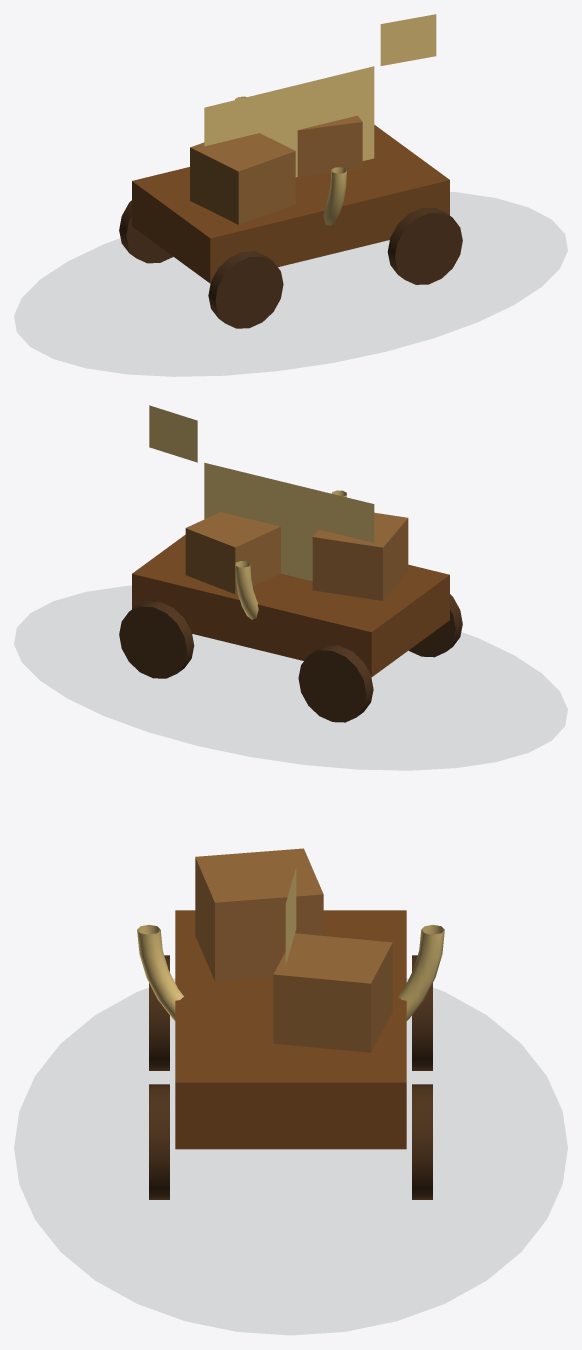
File: nomad_caravan.glb
The picture shows the model from 3 angles, top to bottom: view 1: azimuth 30°, elevation 25°; view 2: azimuth 150°, elevation 25°; view 3: azimuth 270°, elevation 25°; orthographic projection. The views are drawn at different scales.
Visible parts, largest first — view 1: soft_ground_shadow, caravan_cart_bed, caravan_canvas_panel, caravan_goods_crate_0, caravan_wheel_-0.58_0.5, caravan_wheel_0.58_0.5, caravan_goods_crate_1, caravan_signal_flag, caravan_wheel_-0.58_-0.5, caravan_canvas_arch; view 2: soft_ground_shadow, caravan_cart_bed, caravan_canvas_panel, caravan_goods_crate_0, caravan_goods_crate_1, caravan_wheel_-0.58_-0.5, caravan_wheel_0.58_-0.5, caravan_signal_flag, caravan_wheel_-0.58_0.5, caravan_canvas_arch; view 3: soft_ground_shadow, caravan_cart_bed, caravan_goods_crate_0, caravan_goods_crate_1, caravan_canvas_arch, caravan_wheel_0.58_-0.5, caravan_wheel_0.58_0.5, caravan_wheel_-0.58_-0.5, caravan_wheel_-0.58_0.5, caravan_signal_flag.
Part boxes in pixels (bbox=[...]): soft_ground_shadow: bbox=[15, 192, 567, 376]; caravan_cart_bed: bbox=[132, 125, 449, 283]; caravan_canvas_panel: bbox=[204, 66, 374, 177]; caravan_goods_crate_0: bbox=[190, 133, 295, 224]; caravan_wheel_-0.58_0.5: bbox=[208, 251, 283, 328]; caravan_wheel_0.58_0.5: bbox=[387, 207, 462, 284]; caravan_goods_crate_1: bbox=[297, 115, 362, 177]; caravan_signal_flag: bbox=[380, 14, 436, 65]; caravan_wheel_-0.58_-0.5: bbox=[119, 200, 173, 263]; caravan_canvas_arch: bbox=[235, 96, 346, 225]; soft_ground_shadow: bbox=[14, 586, 567, 769]; caravan_cart_bed: bbox=[132, 535, 449, 677]; caravan_canvas_panel: bbox=[204, 462, 374, 581]; caravan_goods_crate_0: bbox=[312, 512, 408, 600]; caravan_goods_crate_1: bbox=[185, 512, 280, 594]; caravan_wheel_-0.58_-0.5: bbox=[298, 645, 373, 722]; caravan_wheel_0.58_-0.5: bbox=[119, 601, 194, 678]; caravan_signal_flag: bbox=[149, 405, 197, 462]; caravan_wheel_-0.58_0.5: bbox=[408, 594, 462, 657]; caravan_canvas_arch: bbox=[235, 490, 346, 619]; soft_ground_shadow: bbox=[15, 980, 566, 1334]; caravan_cart_bed: bbox=[175, 910, 406, 1149]; caravan_goods_crate_0: bbox=[195, 848, 323, 981]; caravan_goods_crate_1: bbox=[273, 933, 392, 1052]; caravan_canvas_arch: bbox=[137, 925, 444, 1020]; caravan_wheel_0.58_-0.5: bbox=[412, 1084, 432, 1199]; caravan_wheel_0.58_0.5: bbox=[149, 1084, 169, 1199]; caravan_wheel_-0.58_-0.5: bbox=[412, 955, 432, 1070]; caravan_wheel_-0.58_0.5: bbox=[149, 955, 169, 1070]; caravan_signal_flag: bbox=[285, 867, 296, 965].
Size of the model in its own units: 3.38 by 1.45 by 2.11.
